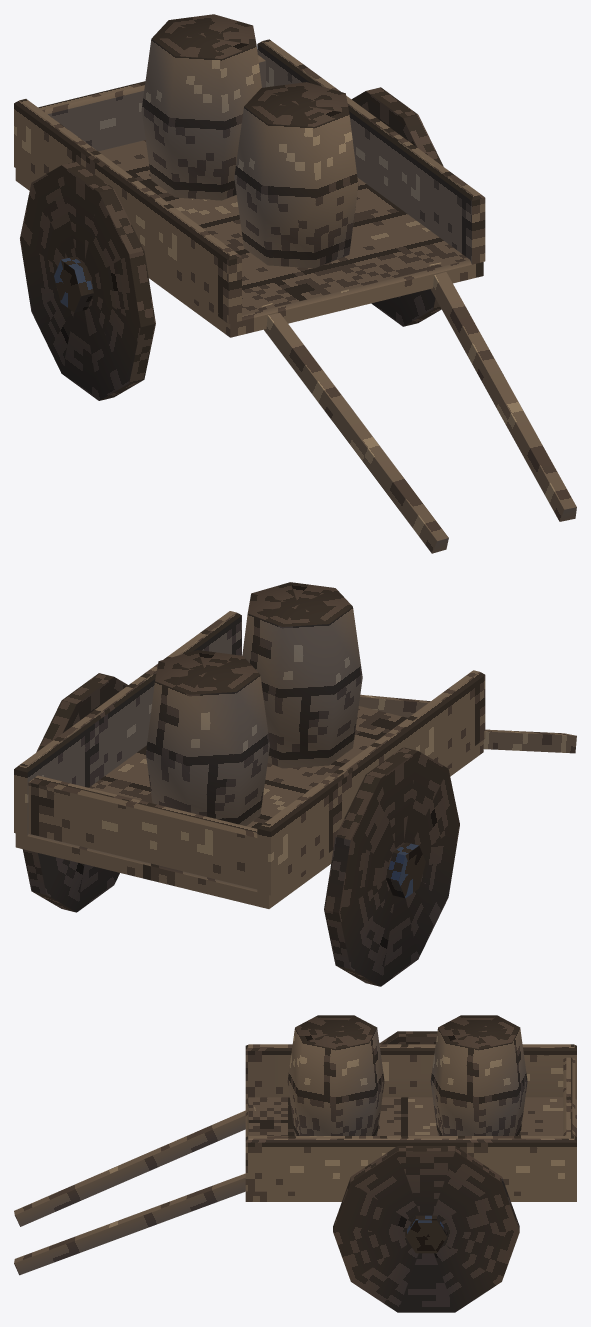
File: mprop.cart__barrels.glb
3 renders of one model, top to bottom at view 1: azimuth 30°, elevation 25°; view 2: azimuth 150°, elevation 25°; view 3: azimuth 270°, elevation 25°, orthographic. The views are drawn at different scales.
Parts seen in each view (by area): view 1: kit_bed, kit_load, kit_wheels; view 2: kit_bed, kit_load, kit_wheels; view 3: kit_bed, kit_wheels, kit_load.
Boxes of the visible parts, x1,y1,x2,y2 form: kit_bed: (14, 39, 576, 553); kit_load: (141, 14, 358, 268); kit_wheels: (20, 87, 443, 400); kit_bed: (14, 611, 576, 908); kit_load: (146, 582, 362, 825); kit_wheels: (22, 673, 459, 986); kit_bed: (14, 1044, 576, 1275); kit_wheels: (333, 1031, 519, 1312); kit_load: (287, 1015, 527, 1135).
Bounding box in the file's own units: 2.04 × 1.62 × 3.74.
Materials: 4 (4 with a texture image).
